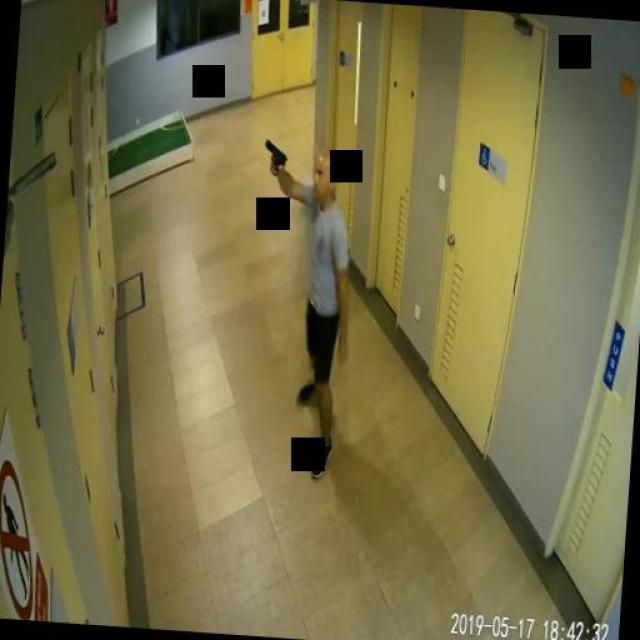gun: (262, 138, 286, 176)
